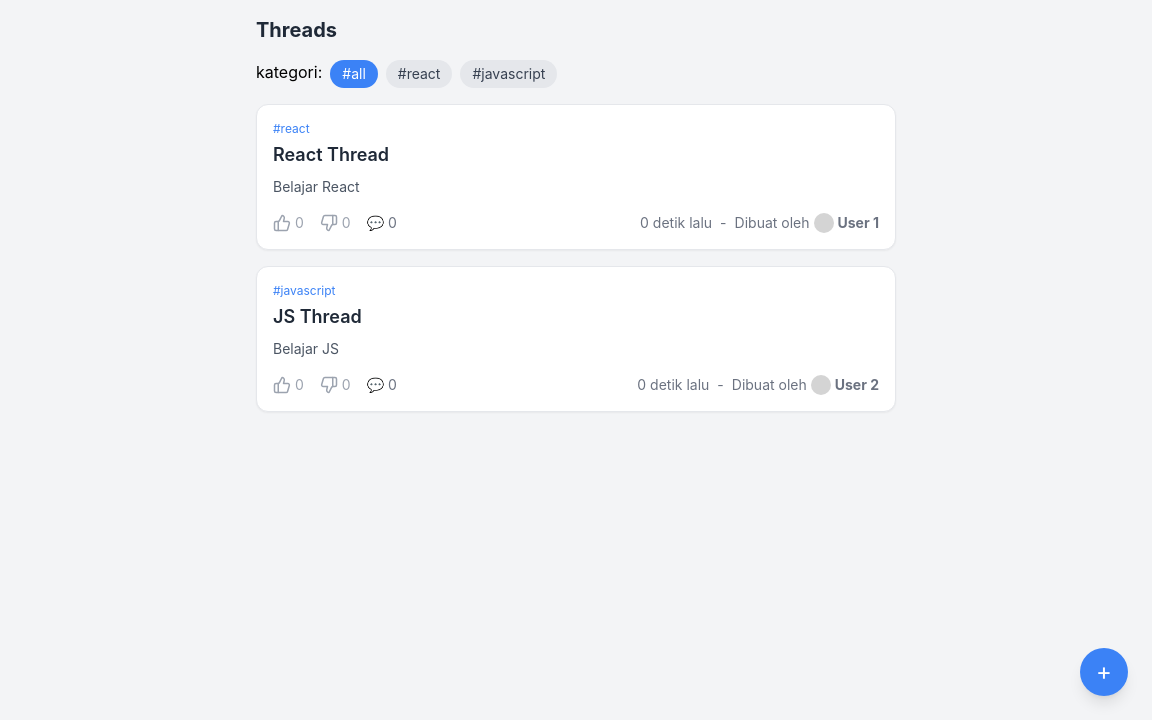
HomePage component › should filter threads by category
Click the button "#react": (419,74) left=386, top=60, right=452, bottom=88
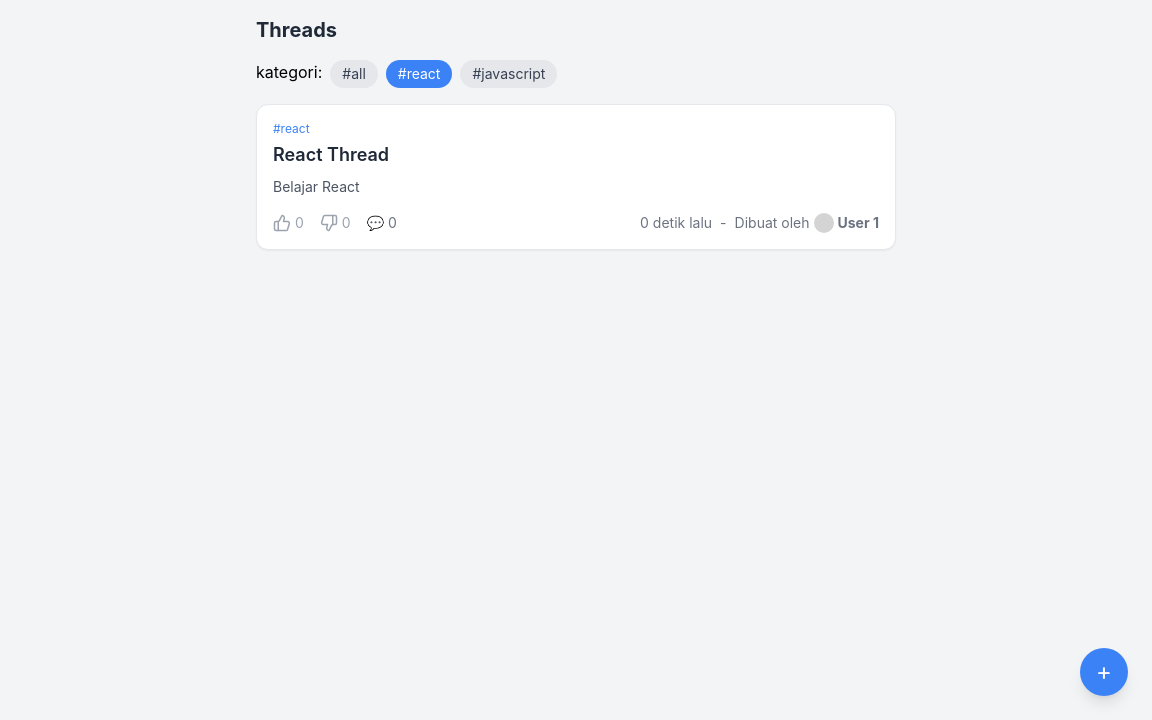
Expected: the heading "React Thread" is shown, left=273, top=144, right=389, bottom=165
Expected: the heading "JS Thread" is gone
